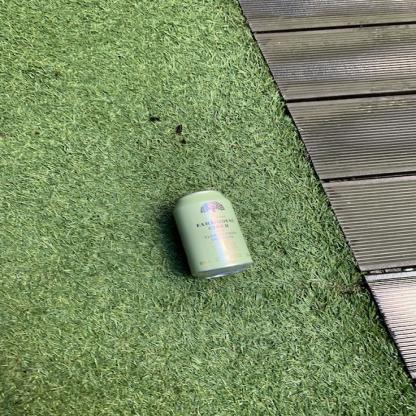trash: (172, 190, 253, 278)
